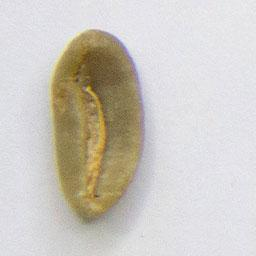longberry: (46, 23, 149, 222)
